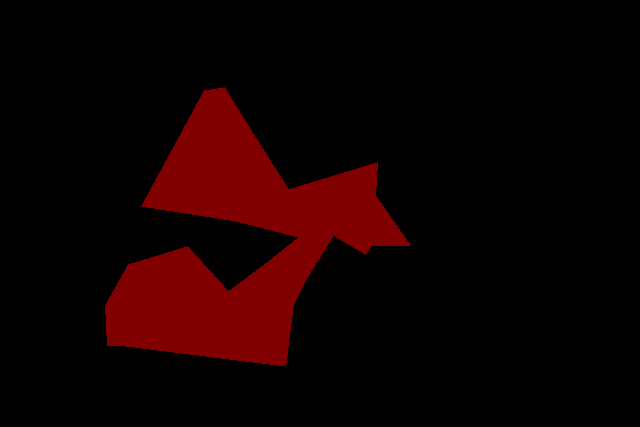fire: (105, 87, 410, 366)
